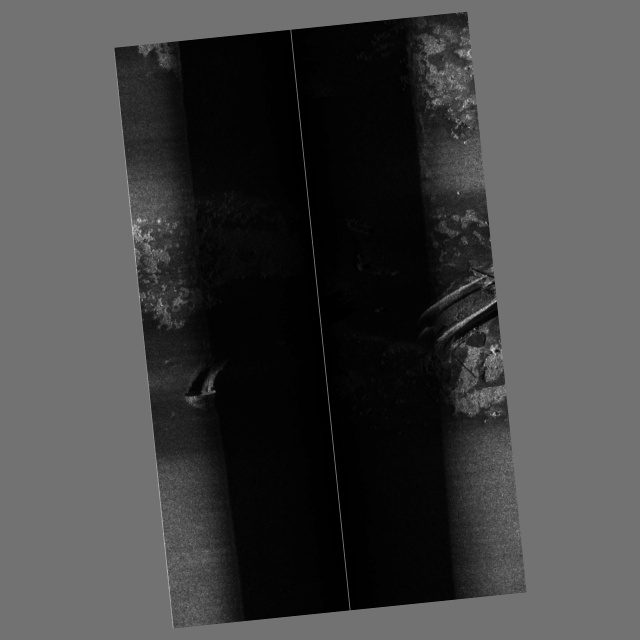Shipwreck: (182, 265, 505, 408)
